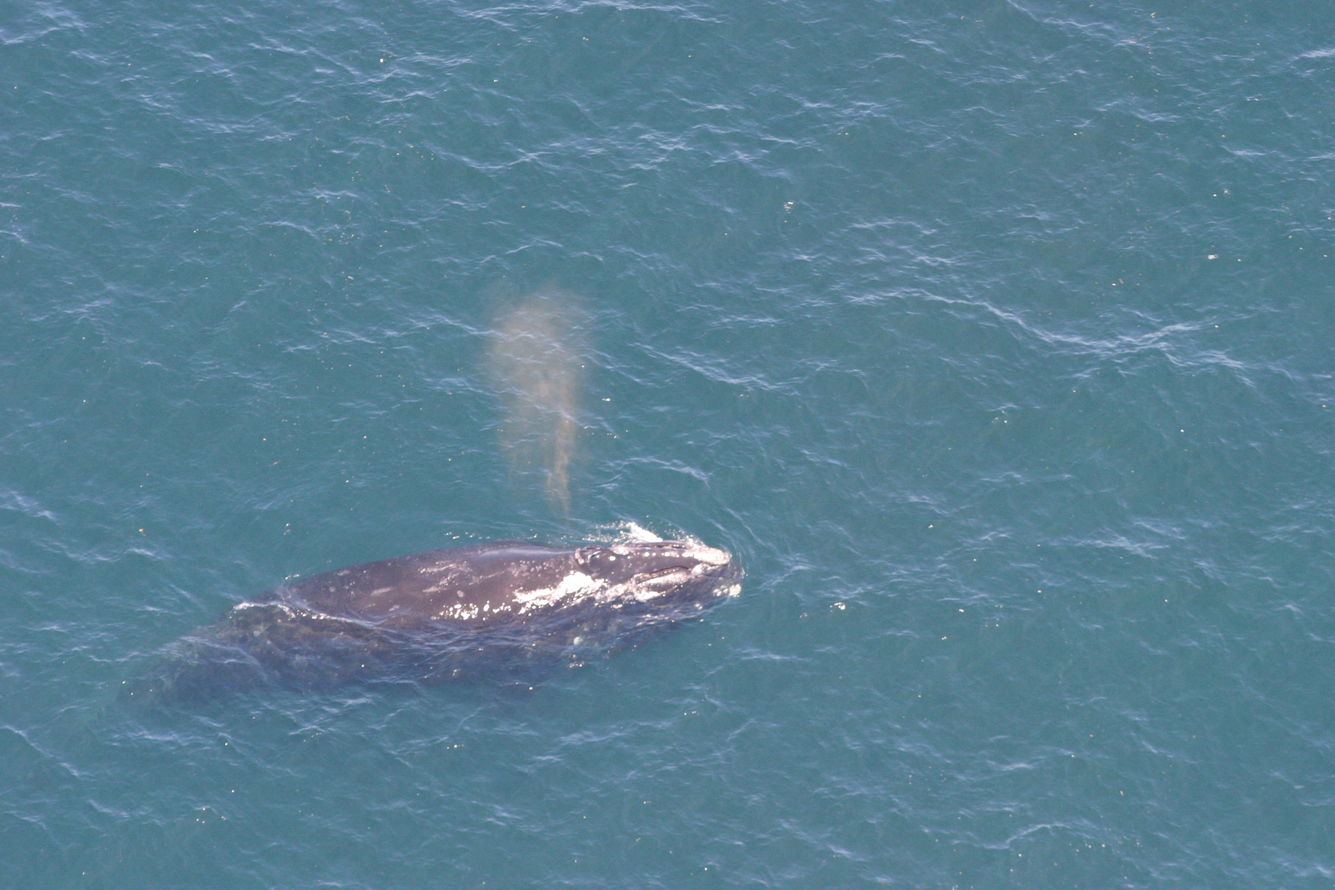whale: (54, 528, 752, 774)
